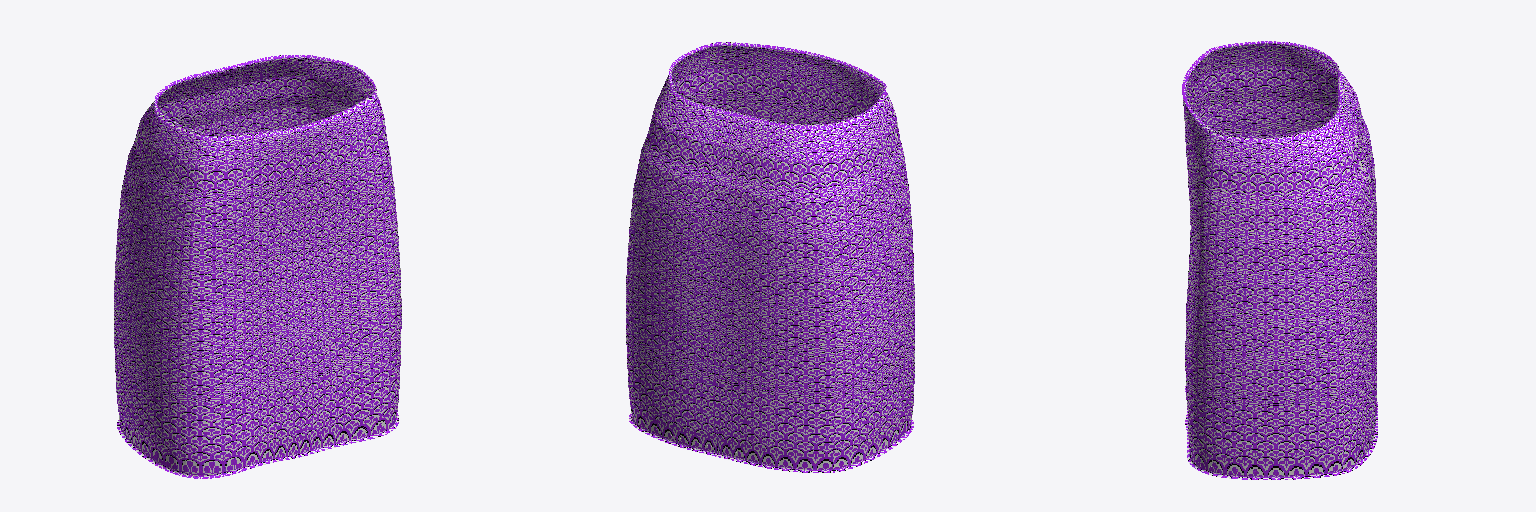
3 views of the same model, side by side, from view 1: azimuth 30°, elevation 25°; view 2: azimuth 150°, elevation 25°; view 3: azimuth 270°, elevation 25° (orthographic).
Visible parts, largest first — view 1: A3skirt01; view 2: A3skirt01; view 3: A3skirt01.
Boxes of the visible parts, <box> form: A3skirt01: <box>114,55,401,478</box>; A3skirt01: <box>626,42,914,472</box>; A3skirt01: <box>1182,41,1377,479</box>.
Bounding box in the file's own units: 0.2646 × 0.3419 × 0.1815.
Materials: 1 (1 with a texture image).